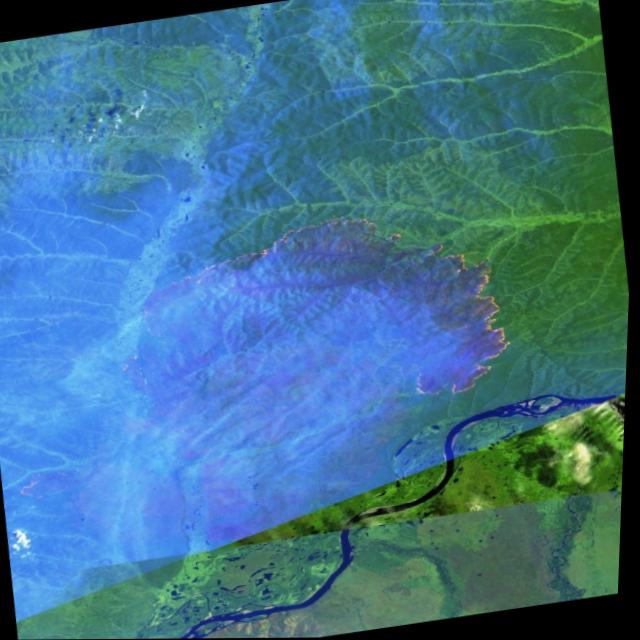fire: (160, 184, 531, 449)
